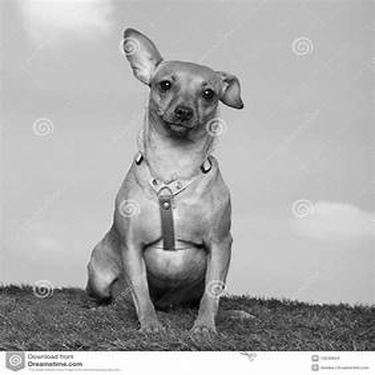dog: (76, 10, 253, 341)
